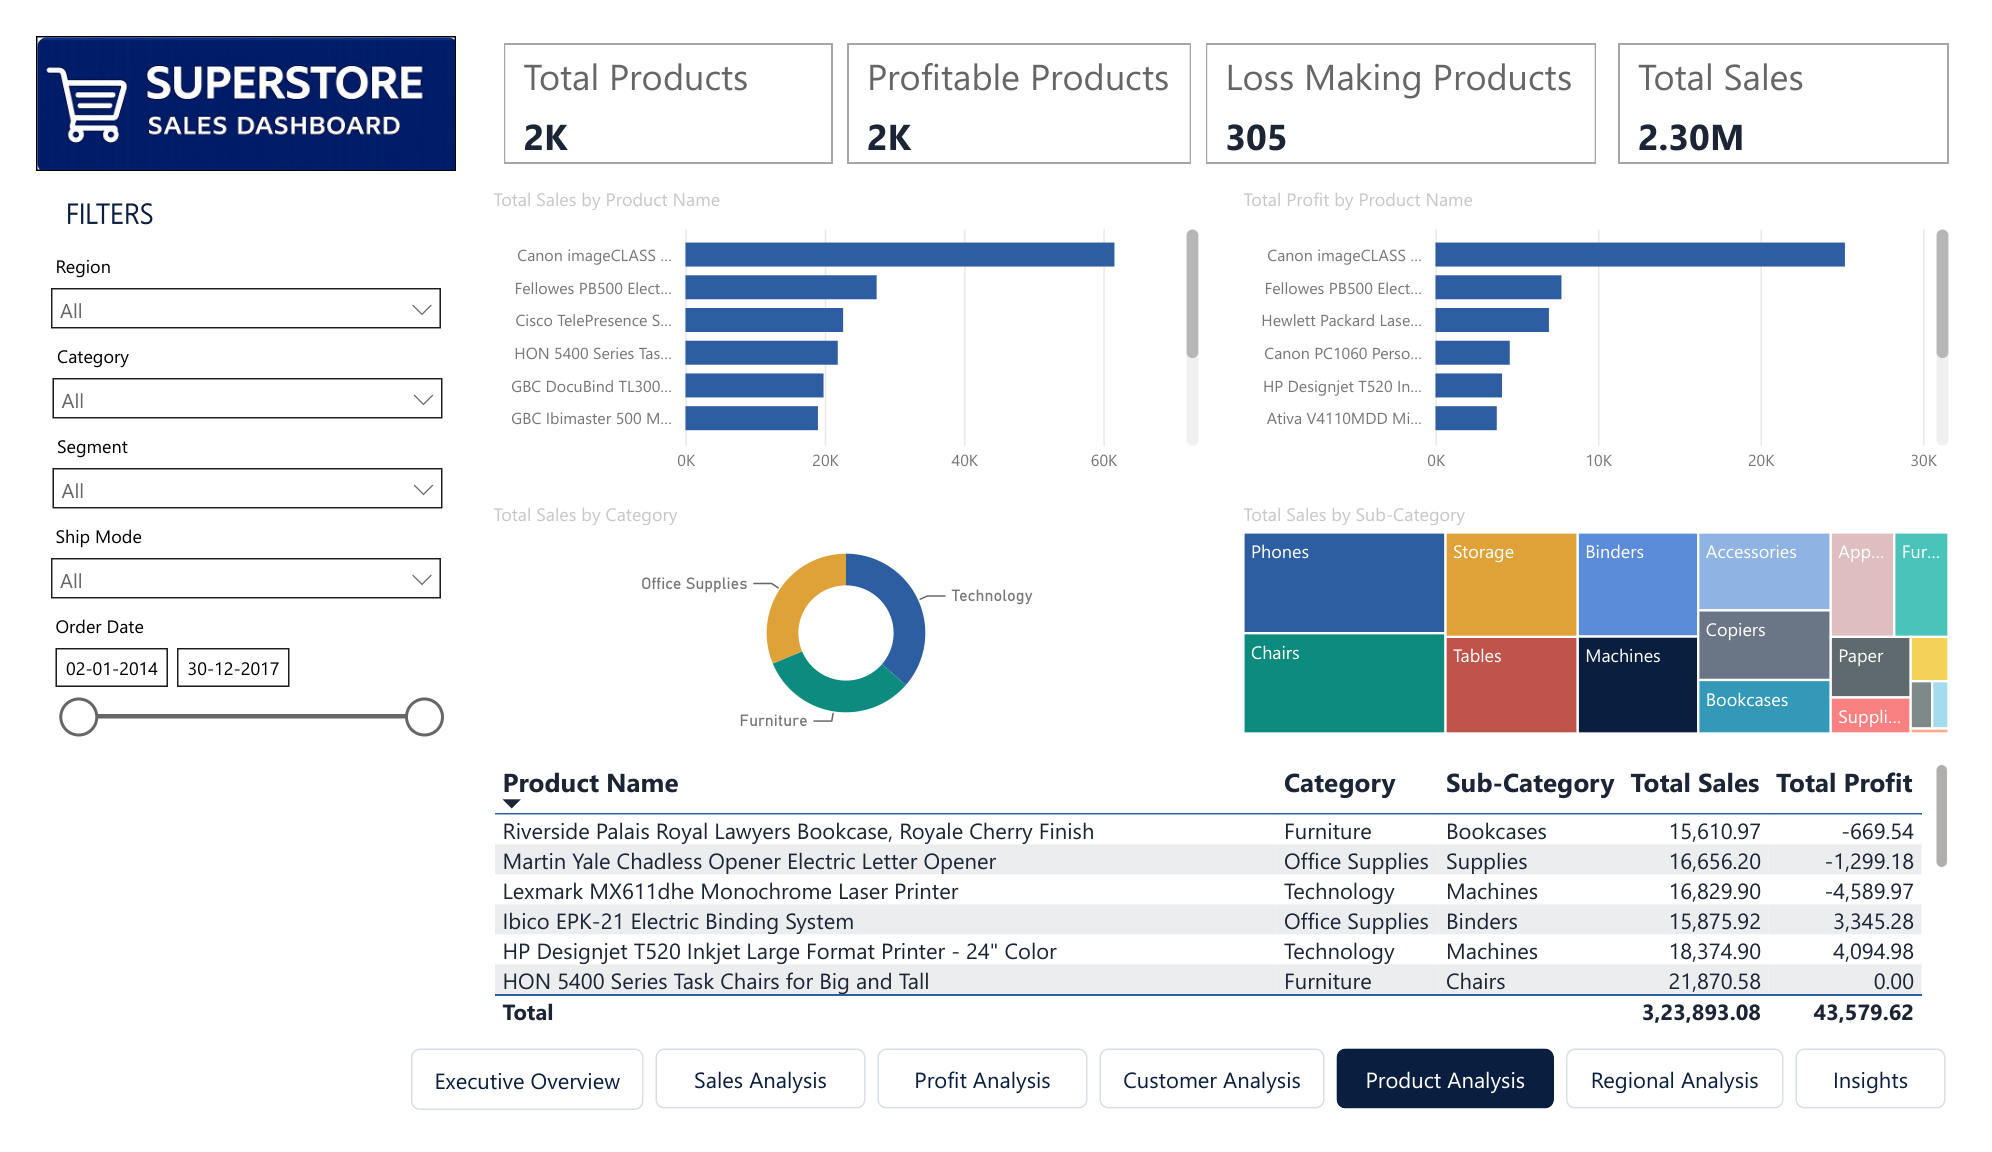

The dashboard page shown, as its layout file describes it:
{"tool":"powerbi","page":{"name":"Product Analysis","canvas":[1280,720],"ordinal":4},"visuals":[{"type":"cardVisual","fields":{"Data":["Sample - Superstore 2.Total Sales"]},"box":[1049.9,0,229.7,89.6],"z":0},{"type":"cardVisual","fields":{"Data":["Sample - Superstore 2.Profitable Products"]},"box":[536.4,0,238.9,89.6],"z":1000},{"type":"cardVisual","fields":{"Data":["Sample - Superstore 2.Loss Making Products"]},"box":[775.4,0,269.9,89.6],"z":2000},{"type":"cardVisual","fields":{"Data":["Sample - Superstore 2.Total Products"]},"box":[306.7,0,229.7,89.6],"z":3000},{"type":"clusteredBarChart","fields":{"Category":["Sample - Superstore 2.Product Name"],"Y":["Sample - Superstore 2.Total Profit"]},"box":[800,100,480,200],"z":4000},{"type":"clusteredBarChart","fields":{"Category":["Sample - Superstore 2.Product Name"],"Y":["Sample - Superstore 2.Total Sales"]},"box":[300,100,480,200],"z":5000},{"type":"donutChart","fields":{"Y":["Sample - Superstore 2.Total Sales"],"Category":["Sample - Superstore 2.Category"]},"box":[300,310,480,160],"z":6000},{"type":"treemap","fields":{"Group":["Sample - Superstore 2.Sub-Category"],"Values":["Sample - Superstore 2.Total Sales"]},"box":[800,310,480,160],"z":7000},{"type":"tableEx","fields":{"Values":["Sample - Superstore 2.Product Name","Sample - Superstore 2.Category","Sample - Superstore 2.Sub-Category","Sample - Superstore 2.Total Sales","Sample - Superstore 2.Total Profit"]},"box":[300,480,980,185],"z":8000},{"type":"actionButton","title":"sdgtsdgte","box":[250,675,155,40.7],"z":9000},{"type":"actionButton","box":[413,675,140,40],"z":10000},{"type":"actionButton","box":[867,675,145,40],"z":11000},{"type":"actionButton","box":[709,675,150,40],"z":12000},{"type":"actionButton","box":[561,675,140,40],"z":13000},{"type":"actionButton","box":[1020,675,145,40],"z":14000},{"type":"actionButton","box":[1173,675,100,40],"z":15000},{"type":"slicer","fields":{"Values":["Sample - Superstore 2.Region"]},"box":[0,140,280,55],"z":16000},{"type":"slicer","fields":{"Values":["Sample - Superstore 2.Category"]},"box":[1.1,200,280,55],"z":17000},{"type":"slicer","fields":{"Values":["Sample - Superstore 2.Order Date"]},"box":[0,380,280.3,130],"z":18000},{"type":"slicer","fields":{"Values":["Sample - Superstore 2.Segment"]},"box":[1.1,260,280,55],"z":19000},{"type":"slicer","fields":{"Values":["Sample - Superstore 2.Ship Mode"]},"box":[0,320,280,54.6],"z":20000},{"type":"image","box":[0,0,280.3,89.6],"z":21000},{"type":"textbox","box":[15,100,200,35],"z":22000}]}

Visuals, with their boxes in screenshot pixels (x1, y1, x2, y2), scaled from the page's 1280x720 canvas onto the 1992x1152 screenshot:
cardVisual - Sample - Superstore 2.Total Sales: Rect(1634, 0, 1991, 143)
cardVisual - Sample - Superstore 2.Profitable Products: Rect(835, 0, 1207, 143)
cardVisual - Sample - Superstore 2.Loss Making Products: Rect(1207, 0, 1627, 143)
cardVisual - Sample - Superstore 2.Total Products: Rect(477, 0, 835, 143)
clusteredBarChart - Sample - Superstore 2.Product Name x Sample - Superstore 2.Total Profit: Rect(1245, 160, 1991, 480)
clusteredBarChart - Sample - Superstore 2.Product Name x Sample - Superstore 2.Total Sales: Rect(467, 160, 1214, 480)
donutChart - Sample - Superstore 2.Total Sales x Sample - Superstore 2.Category: Rect(467, 496, 1214, 752)
treemap - Sample - Superstore 2.Sub-Category x Sample - Superstore 2.Total Sales: Rect(1245, 496, 1991, 752)
tableEx - Sample - Superstore 2.Product Name x Sample - Superstore 2.Category: Rect(467, 768, 1991, 1064)
"sdgtsdgte" actionButton: Rect(389, 1080, 630, 1145)
actionButton: Rect(643, 1080, 861, 1144)
actionButton: Rect(1349, 1080, 1575, 1144)
actionButton: Rect(1103, 1080, 1337, 1144)
actionButton: Rect(873, 1080, 1091, 1144)
actionButton: Rect(1587, 1080, 1813, 1144)
actionButton: Rect(1825, 1080, 1981, 1144)
slicer - Sample - Superstore 2.Region: Rect(0, 224, 436, 312)
slicer - Sample - Superstore 2.Category: Rect(2, 320, 437, 408)
slicer - Sample - Superstore 2.Order Date: Rect(0, 608, 436, 816)
slicer - Sample - Superstore 2.Segment: Rect(2, 416, 437, 504)
slicer - Sample - Superstore 2.Ship Mode: Rect(0, 512, 436, 599)
image: Rect(0, 0, 436, 143)
textbox: Rect(23, 160, 335, 216)
